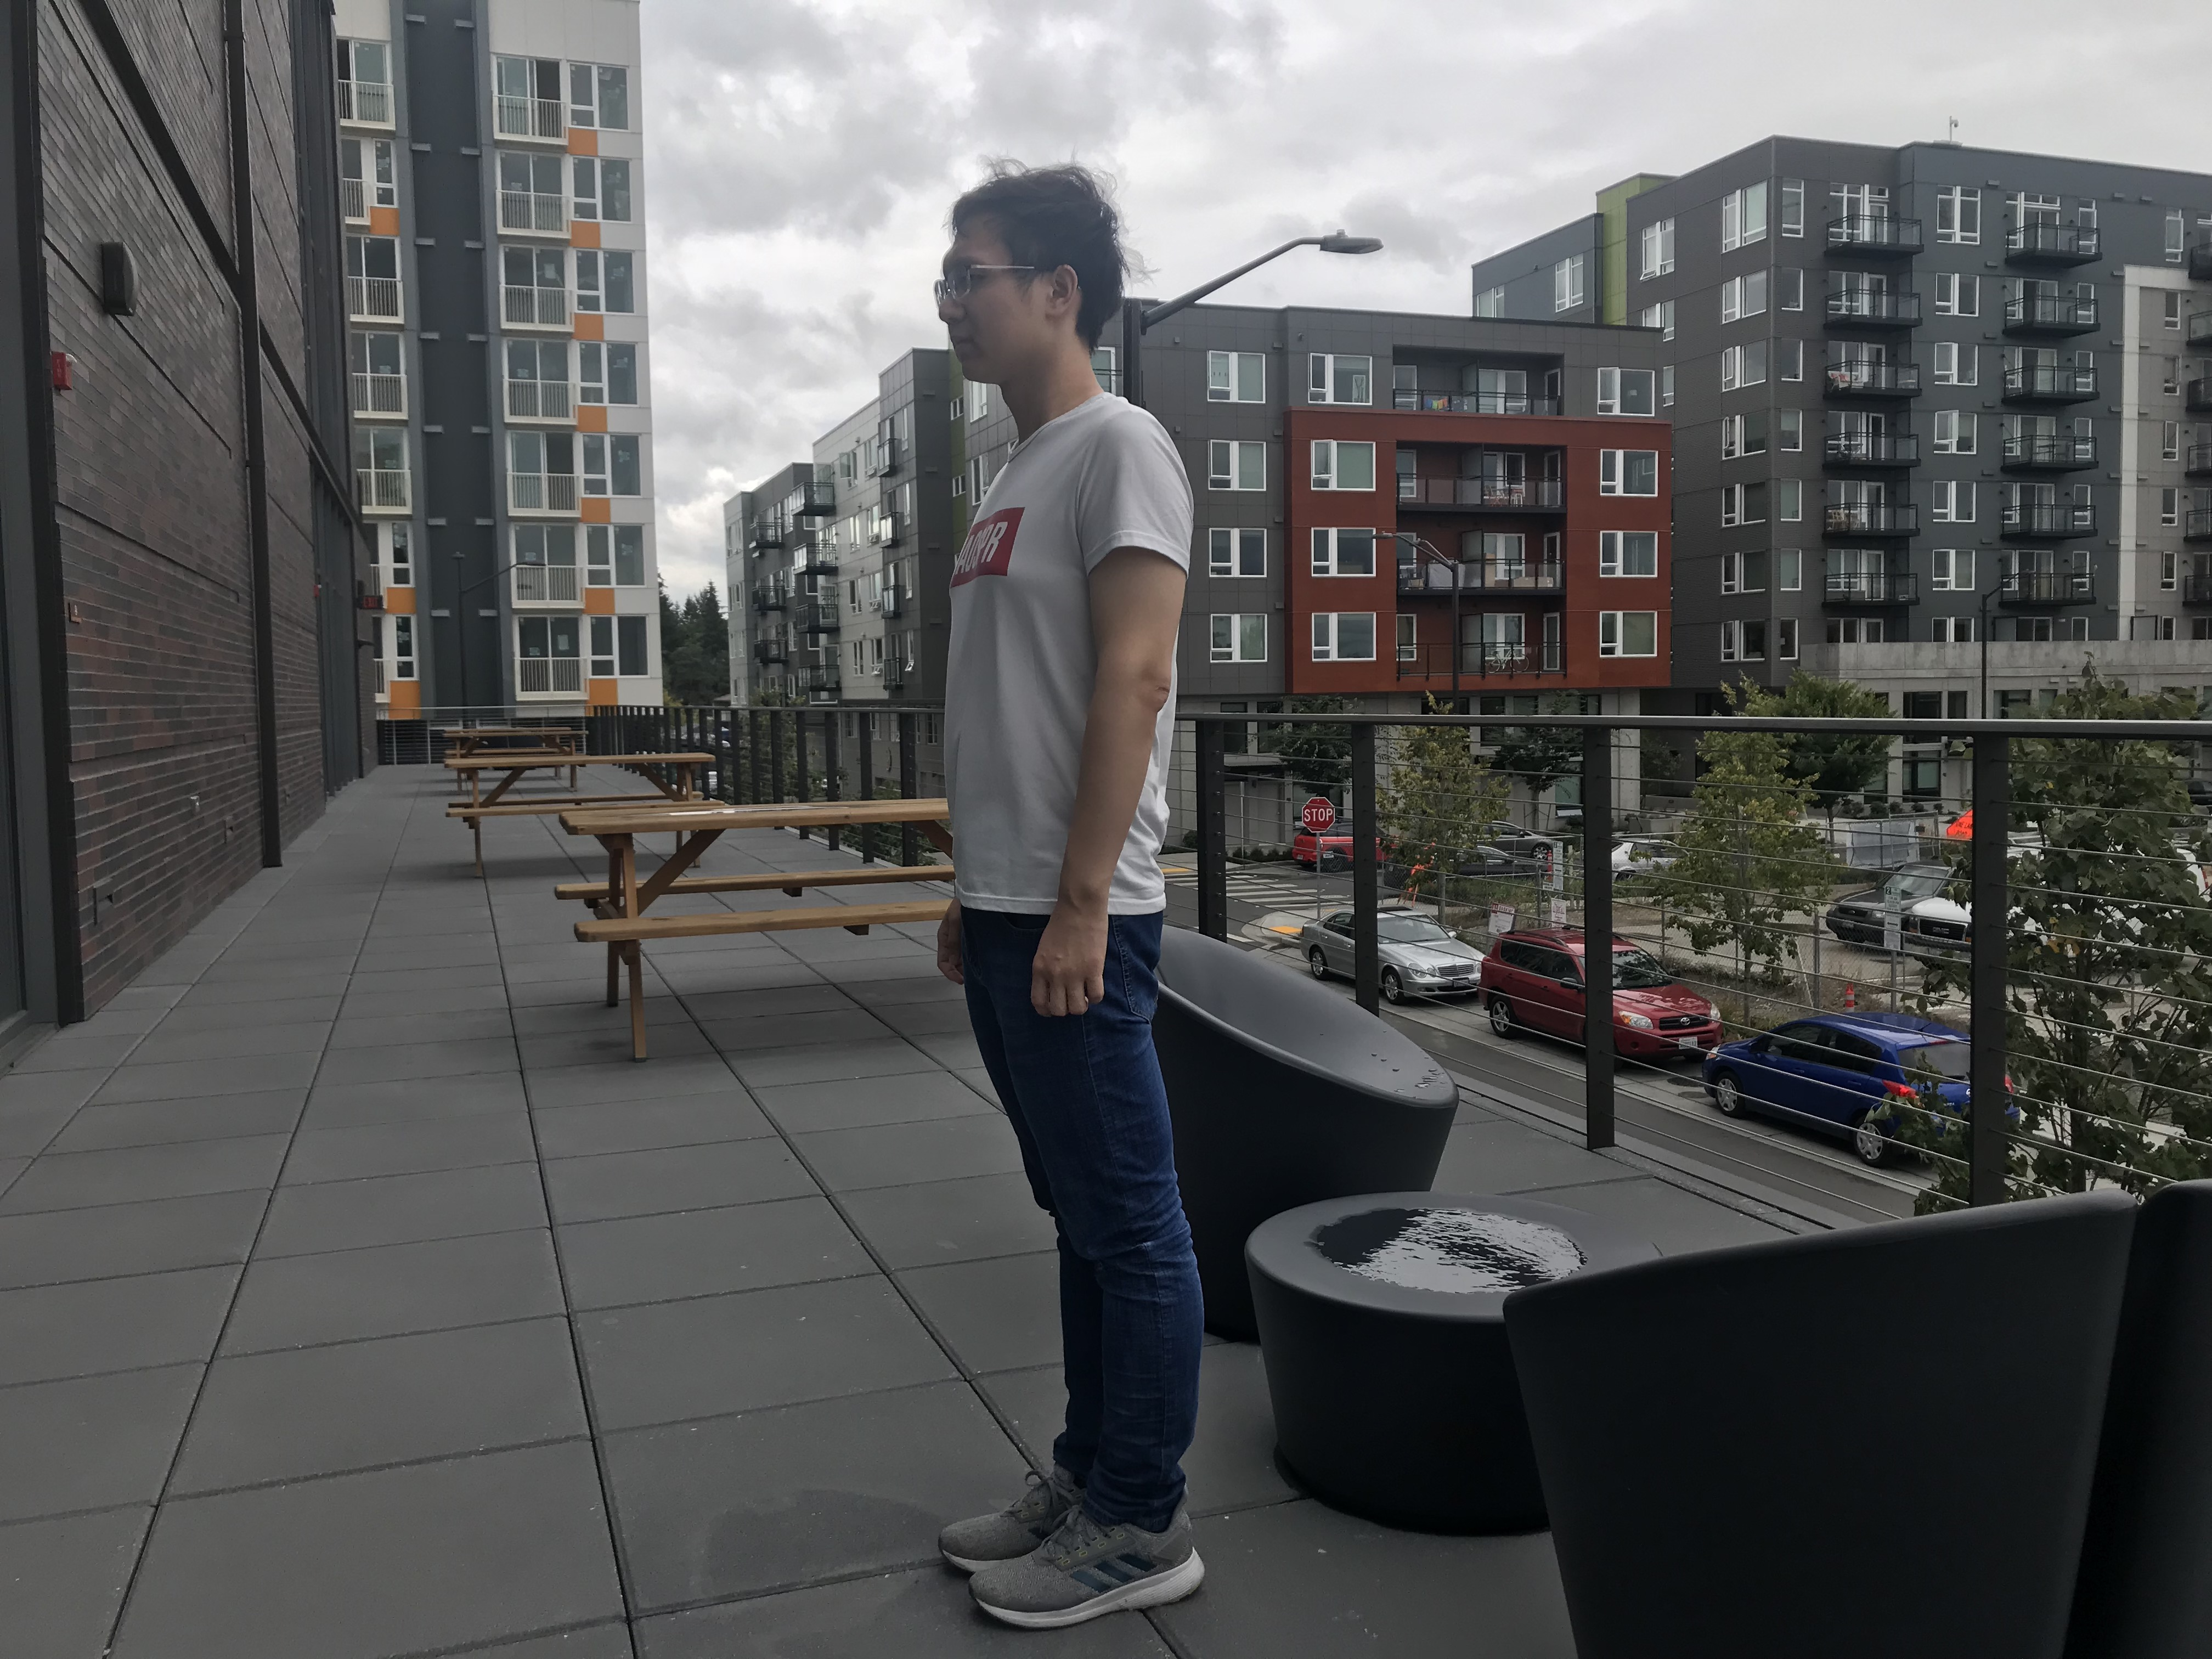attack_zone: (979, 493, 1122, 859), (1987, 80, 2000, 87)
